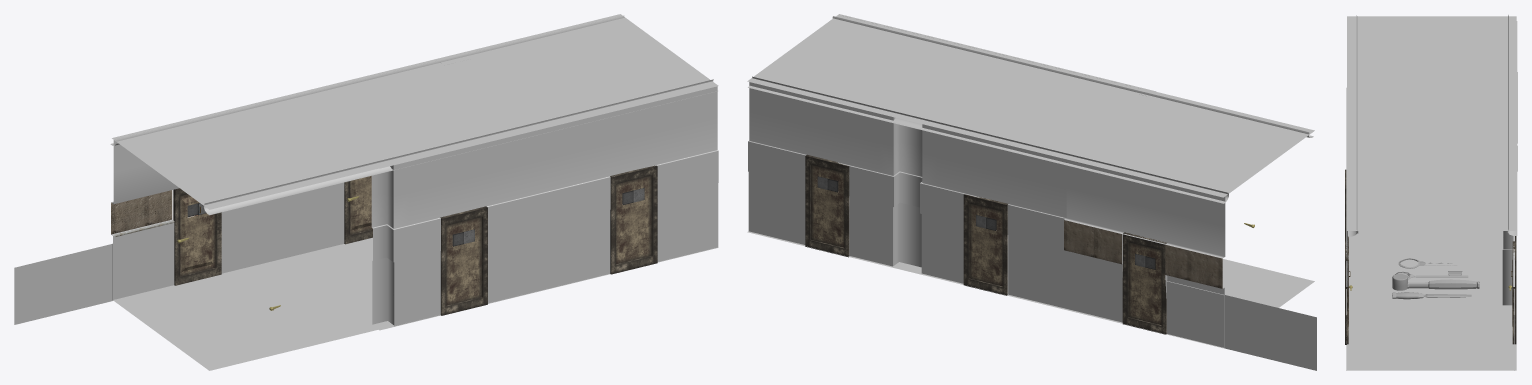
The model's file is 55ewer.fbx.
3 renders of one model, left to right at view 1: azimuth 30°, elevation 25°; view 2: azimuth 150°, elevation 25°; view 3: azimuth 270°, elevation 25°, orthographic. The views are drawn at different scales.
Visible parts, largest first — view 1: polySurface196, polySurface194, polySurface212, polySurface200, polySurface198, polySurface199, polySurface214, polySurface215, polySurface131, polySurface121, polySurface201, polySurface211 (+3 smaller); view 2: polySurface208, polySurface215, polySurface201, polySurface200, polySurface198, polySurface199, polySurface214, polySurface137, polySurface139, polySurface142, polySurface212, polySurface205 (+5 smaller); view 3: polySurface200, polySurface199, polySurface209, polySurface198, polySurface210, polySurface208, pasted__pCylinder1, polySurface137, polySurface194, pasted__pCube2, polySurface131, polySurface196 (+9 smaller).
Boxes of the visible parts, <box> form: polySurface196: <box>371,126,549,330</box>; polySurface194: <box>548,85,718,288</box>; polySurface212: <box>113,259,378,370</box>; polySurface200: <box>112,97,378,209</box>; polySurface198: <box>451,14,717,126</box>; polySurface199: <box>281,55,547,163</box>; polySurface214: <box>14,229,174,324</box>; polySurface215: <box>111,97,282,299</box>; polySurface131: <box>610,165,657,274</box>; polySurface121: <box>440,206,487,315</box>; polySurface201: <box>282,56,459,258</box>; polySurface211: <box>283,238,394,329</box>; polySurface208: <box>748,80,914,266</box>; polySurface215: <box>1064,157,1225,348</box>; polySurface201: <box>907,114,1066,308</box>; polySurface200: <box>1065,92,1314,197</box>; polySurface198: <box>747,15,996,119</box>; polySurface199: <box>906,53,1154,158</box>; polySurface214: <box>1168,281,1316,370</box>; polySurface137: <box>805,154,849,257</box>; polySurface139: <box>963,194,1007,295</box>; polySurface142: <box>1122,232,1166,334</box>; polySurface212: <box>1065,259,1314,348</box>; polySurface205: <box>748,76,910,126</box>; polySurface200: <box>1347,16,1516,87</box>; polySurface199: <box>1348,87,1516,159</box>; polySurface209: <box>1347,299,1516,370</box>; polySurface198: <box>1348,159,1516,230</box>; polySurface210: <box>1348,231,1516,298</box>; polySurface208: <box>1501,159,1514,370</box>; pasted__pCylinder1: <box>1392,274,1479,290</box>; polySurface137: <box>1512,241,1516,344</box>; polySurface194: <box>1346,159,1348,370</box>; pasted__pCube2: <box>1392,292,1471,299</box>; polySurface131: <box>1345,241,1348,344</box>; polySurface196: <box>1346,87,1359,233</box>.
Bounding box in the file's own units: 90.9 × 26.21 × 25.83.
